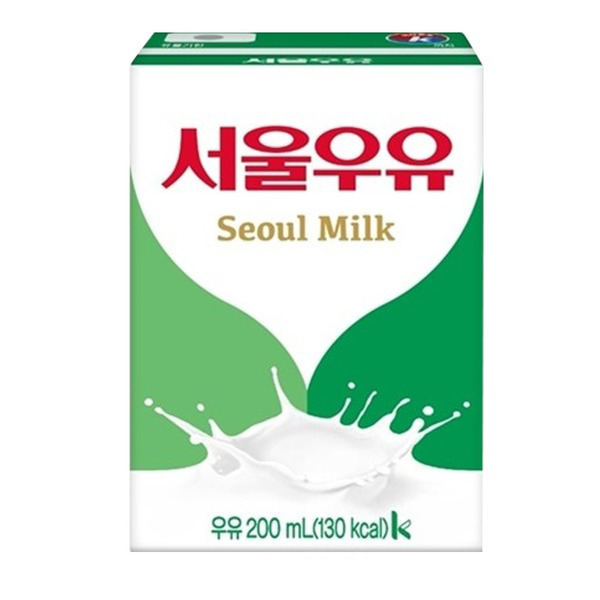milk: (128, 33, 483, 553)
